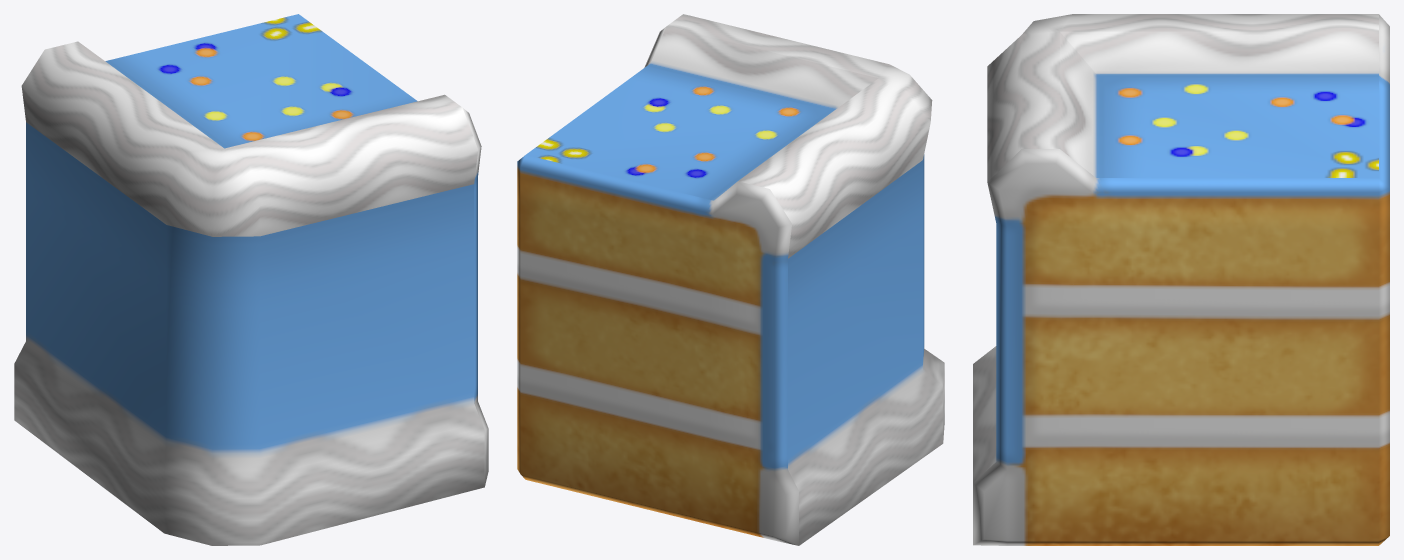
File: Birthday_SheetCake_Slice.fbx
The picture shows the model from 3 angles, left to right: view 1: azimuth 30°, elevation 25°; view 2: azimuth 150°, elevation 25°; view 3: azimuth 270°, elevation 25°; orthographic projection. The views are drawn at different scales.
Visible parts, largest first — view 1: BDay_SheetCake_Slice; view 2: BDay_SheetCake_Slice; view 3: BDay_SheetCake_Slice.
Boxes of the visible parts, x1,y1,x2,y2 form: BDay_SheetCake_Slice: (14,14,488,545); BDay_SheetCake_Slice: (517,14,944,545); BDay_SheetCake_Slice: (973,14,1389,545).
Bounding box in the file's own units: 27.83 × 33.31 × 31.46.
